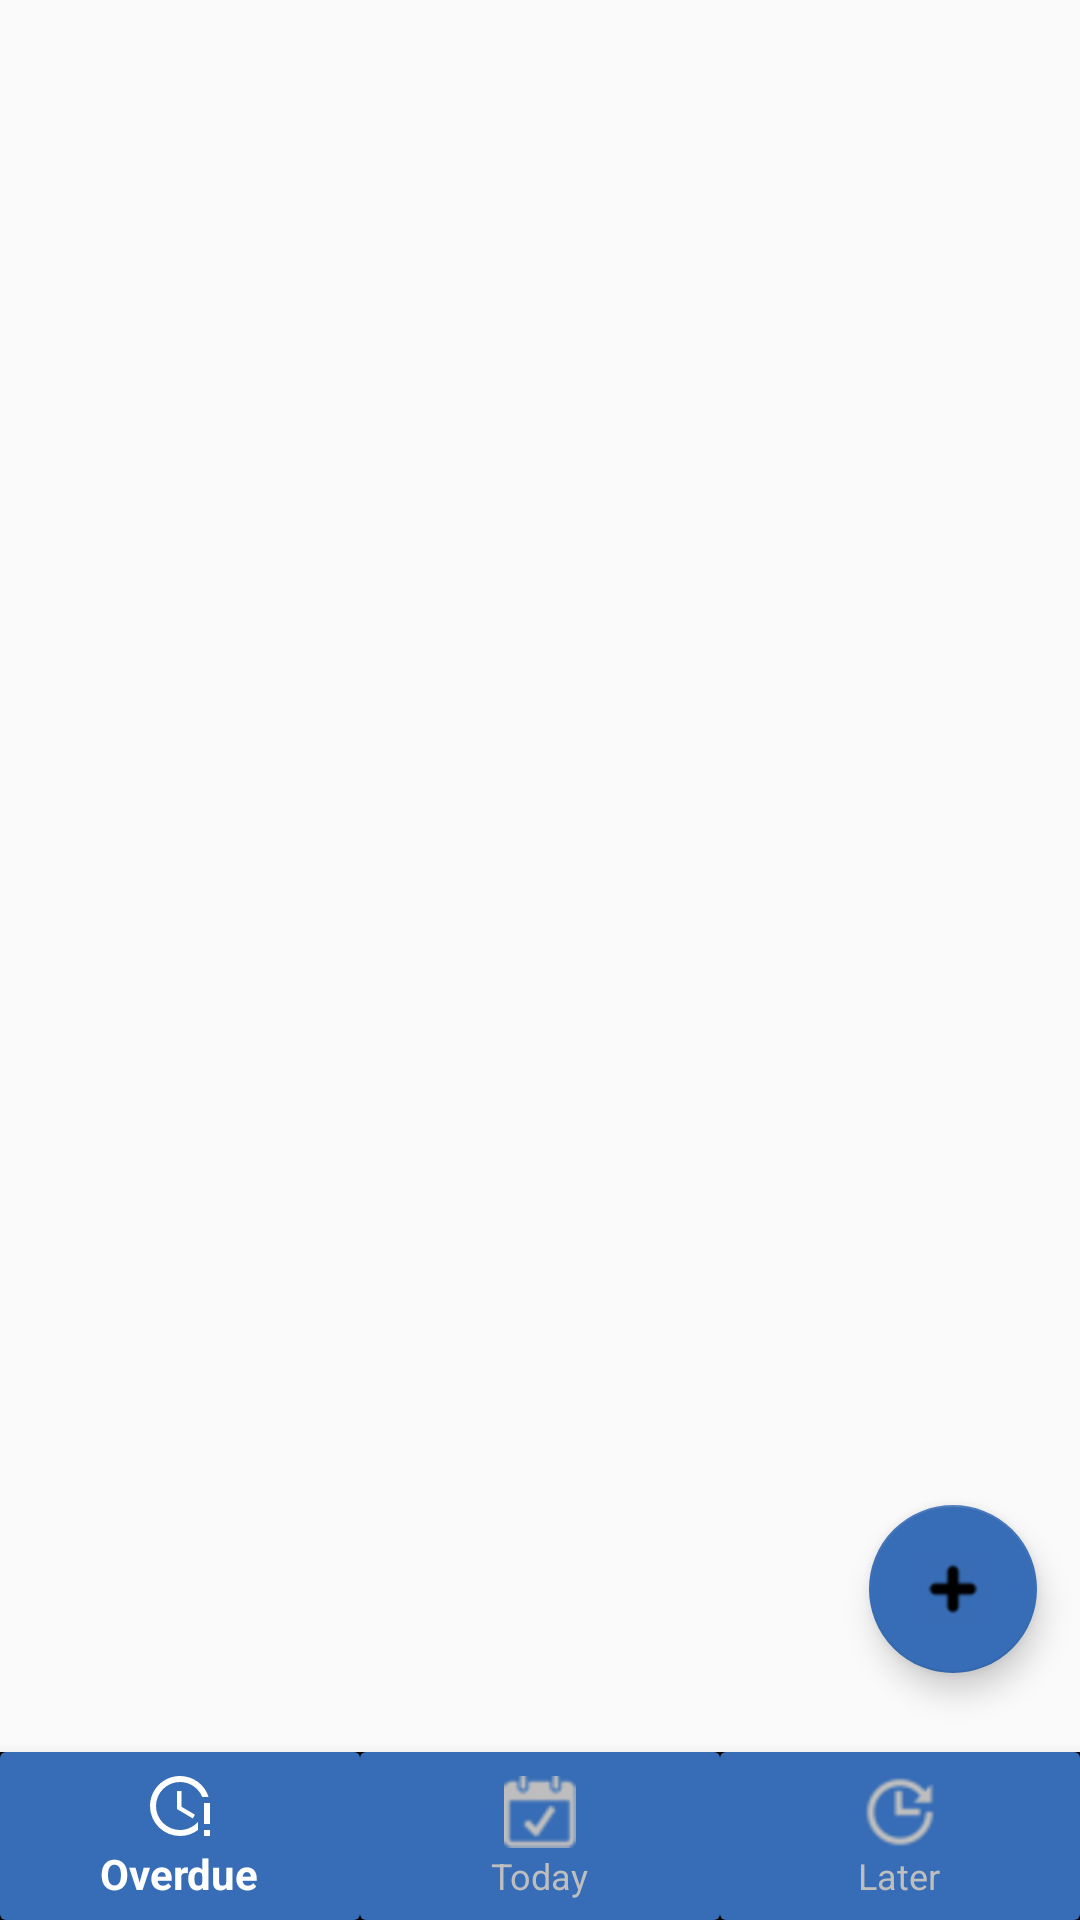

Where to tap for icons on this 1080px×1920px app screen, as (x,y):
plus: (953,1589)
